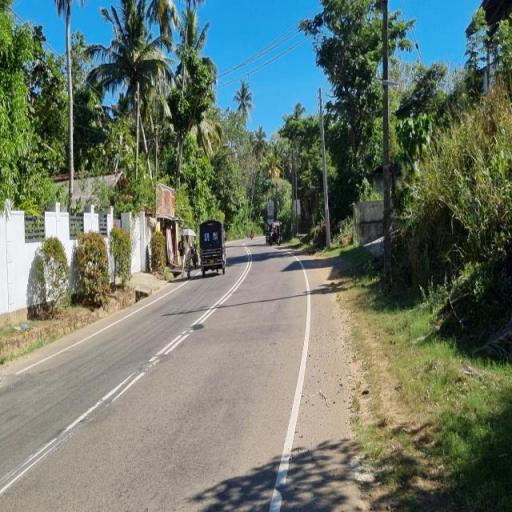double_white_line: (146, 245, 249, 369)
